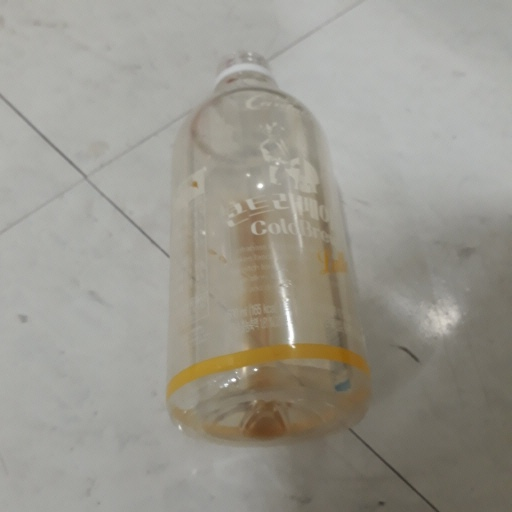Plastic_0: (164, 50, 375, 441)
